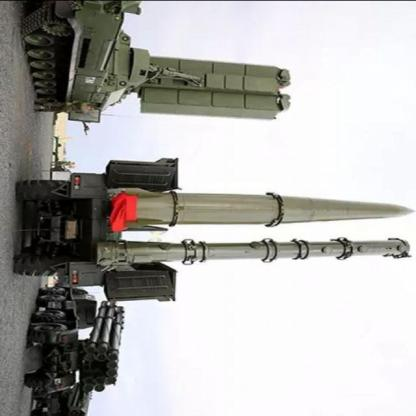MIL_TBM: (102, 181, 416, 231)
